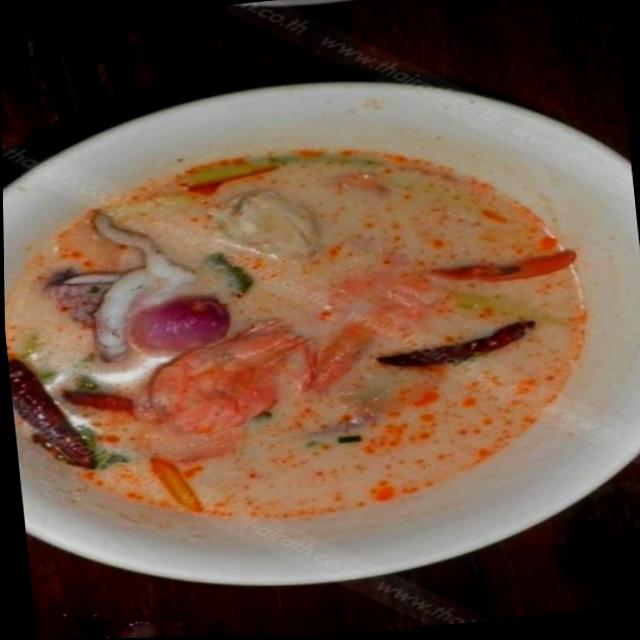汤锅炖物: (1, 82, 624, 577)
